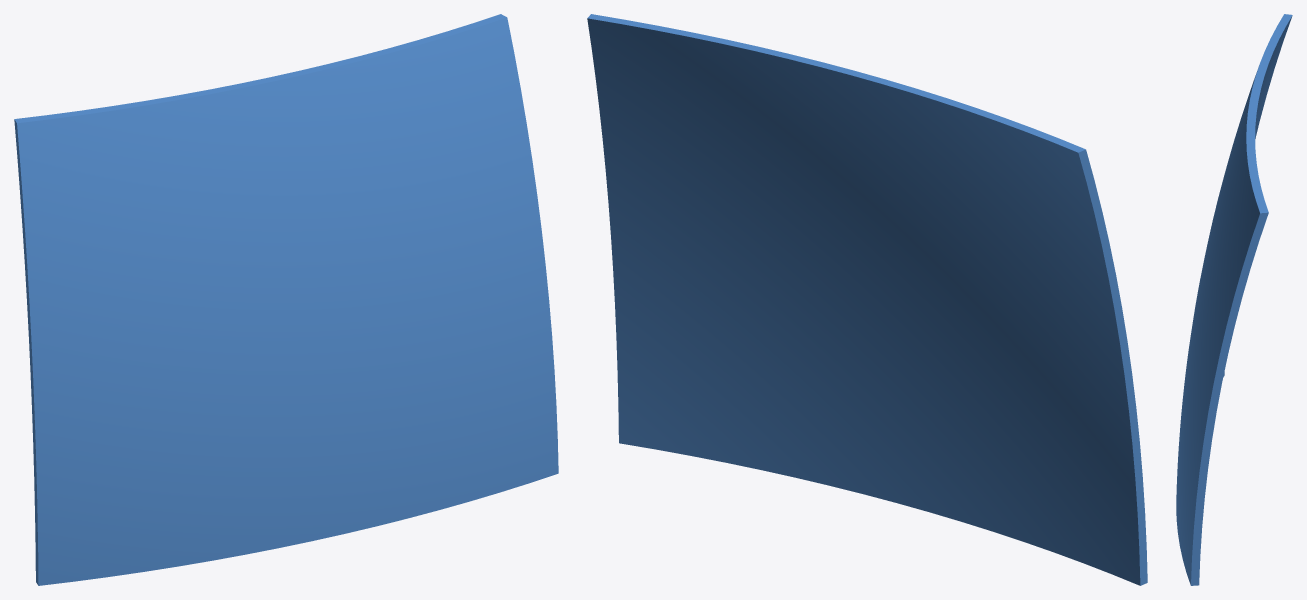
3 renders of one model, left to right at view 1: azimuth 30°, elevation 25°; view 2: azimuth 150°, elevation 25°; view 3: azimuth 270°, elevation 25°, orthographic. The views are drawn at different scales.
Parts seen in each view (by area): view 1: Body1; view 2: Body1; view 3: Body1.
Part boxes in pixels (x1=…): Body1: x1=14, y1=14, x2=558, y2=585; Body1: x1=587, y1=14, x2=1147, y2=585; Body1: x1=1176, y1=14, x2=1292, y2=585.
Size of the model in its own units: 9.48 by 7.7 by 2.21.
